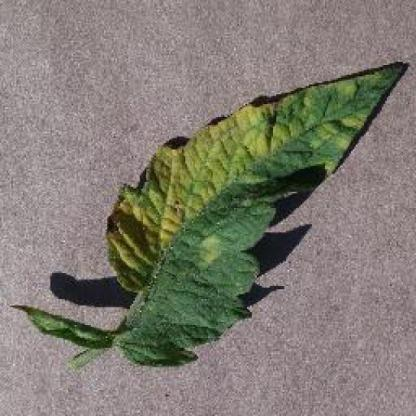Tomato_Leaf_Mold: (108, 61, 406, 366)
